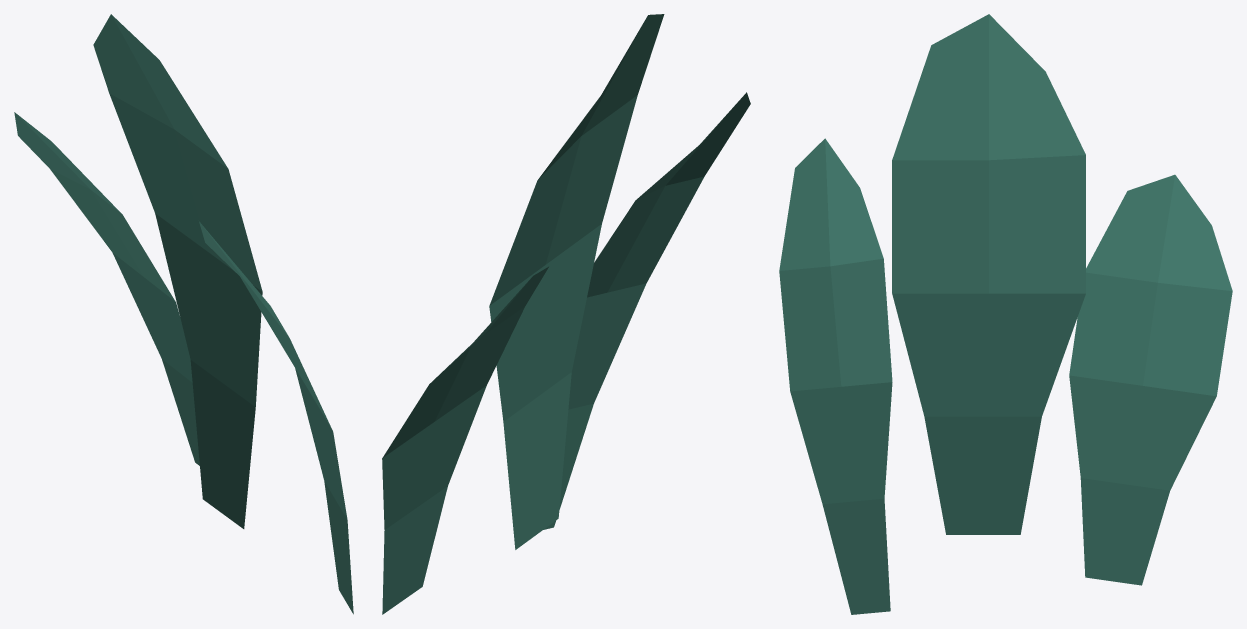
Rendered from grass.fbx.
The picture shows the model from 3 angles, left to right: view 1: azimuth 30°, elevation 25°; view 2: azimuth 150°, elevation 25°; view 3: azimuth 270°, elevation 25°; orthographic projection. The views are drawn at different scales.
Parts seen in each view (by area): view 1: Plane.009, Plane.010, Plane.011; view 2: Plane.009, Plane.010, Plane.011; view 3: Plane.009, Plane.010, Plane.011.
Boxes of the visible parts, x1,y1,x2,y2 form: Plane.009: (93,14,262,528); Plane.010: (14,112,199,465); Plane.011: (199,221,353,614); Plane.009: (489,14,664,549); Plane.010: (382,266,548,614); Plane.011: (543,92,750,529); Plane.009: (892,14,1085,534); Plane.010: (1069,174,1232,585); Plane.011: (779,138,892,614).
Size of the model in its own units: 5.21 by 16.51 by 12.85.
